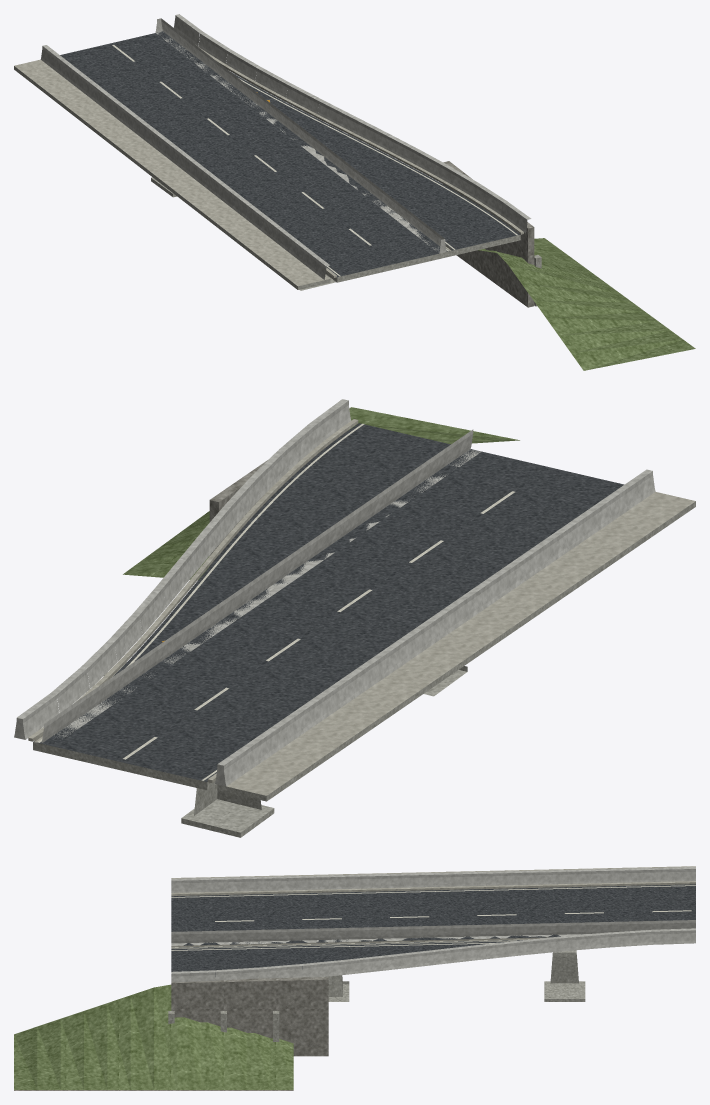
The picture shows the model from 3 angles, top to bottom: view 1: azimuth 30°, elevation 25°; view 2: azimuth 150°, elevation 25°; view 3: azimuth 270°, elevation 25°; orthographic projection. The views are drawn at different scales.
Parts seen in each view (by area): view 1: VIS_Road_mainTop_Asphalt_Dark, VIS_Embankment_Slope_Grass_Embankment, VIS_Road_entry_branchTop_Asphalt_Dark, VIS_Maintenance_PavingTop_Curb_Stone, VIS_Jersey_Parapet_entry_branch_1_Concrete_Barrier, VIS_Jersey_Parapet_main_0_Concrete_Barrier, VIS_Jersey_Parapet_entry_branch_0_Concrete_Barrier, VIS_Retaining_Wall_Retaining_Stone, VIS_Curb_entry_branch_1_Curb_Stone, VIS_Maintenance_PavingOuterLeft_Concrete_Deck, VIS_Road_mainCap_Concrete_Deck; view 2: VIS_Road_mainTop_Asphalt_Dark, VIS_Maintenance_PavingTop_Curb_Stone, VIS_Road_entry_branchTop_Asphalt_Dark, VIS_Jersey_Parapet_main_0_Concrete_Barrier, VIS_Jersey_Parapet_entry_branch_1_Concrete_Barrier, VIS_Jersey_Parapet_entry_branch_0_Concrete_Barrier, VIS_Embankment_Slope_Grass_Embankment, VIS_Maintenance_PavingOuterLeft_Concrete_Deck, VIS_Curb_entry_branch_1_Curb_Stone, VIS_Pier_Foundation_01_Concrete_Deck, VIS_Road_mainCap_Concrete_Deck, VIS_Retaining_Wall_Retaining_Stone (+3 smaller); view 3: VIS_Embankment_Slope_Grass_Embankment, VIS_Road_mainTop_Asphalt_Dark, VIS_Retaining_Wall_Retaining_Stone, VIS_Jersey_Parapet_main_0_Concrete_Barrier, VIS_Jersey_Parapet_entry_branch_1_Concrete_Barrier, VIS_Jersey_Parapet_entry_branch_0_Concrete_Barrier, VIS_Road_entry_branchTop_Asphalt_Dark, VIS_Curb_main_0_Curb_Stone, VIS_Curb_entry_branch_0_Curb_Stone, VIS_Edge_Line_main_Paint_White, VIS_Pier_Foundation_01_Concrete_Deck, VIS_Maintenance_PavingTop_Curb_Stone (+4 smaller).
Part boxes in pixels (x1,y1,x2,y2): VIS_Road_mainTop_Asphalt_Dark: (60,31,449,277); VIS_Embankment_Slope_Grass_Embankment: (478,238,695,370); VIS_Road_entry_branchTop_Asphalt_Dark: (229,71,520,250); VIS_Maintenance_PavingTop_Curb_Stone: (14,59,330,286); VIS_Jersey_Parapet_entry_branch_1_Concrete_Barrier: (174,14,531,233); VIS_Jersey_Parapet_main_0_Concrete_Barrier: (40,45,329,279); VIS_Jersey_Parapet_entry_branch_0_Concrete_Barrier: (155,18,446,253); VIS_Retaining_Wall_Retaining_Stone: (443,161,534,307); VIS_Curb_entry_branch_1_Curb_Stone: (196,45,523,234); VIS_Maintenance_PavingOuterLeft_Concrete_Deck: (14,66,297,289); VIS_Road_mainCap_Concrete_Deck: (337,250,451,282); VIS_Road_mainTop_Asphalt_Dark: (37,449,624,781); VIS_Maintenance_PavingTop_Curb_Stone: (226,492,695,795); VIS_Road_entry_branchTop_Asphalt_Dark: (33,423,450,741); VIS_Jersey_Parapet_main_0_Concrete_Barrier: (215,469,655,786); VIS_Jersey_Parapet_entry_branch_1_Concrete_Barrier: (14,399,351,739); VIS_Jersey_Parapet_entry_branch_0_Concrete_Barrier: (41,429,481,742); VIS_Embankment_Slope_Grass_Embankment: (123,407,519,579); VIS_Maintenance_PavingOuterLeft_Concrete_Deck: (266,501,695,801); VIS_Curb_entry_branch_1_Curb_Stone: (28,419,358,741); VIS_Pier_Foundation_01_Concrete_Deck: (181,799,274,837); VIS_Road_mainCap_Concrete_Deck: (33,742,207,790); VIS_Retaining_Wall_Retaining_Stone: (209,431,347,565); VIS_Embankment_Slope_Grass_Embankment: (14,984,293,1089); VIS_Road_mainTop_Asphalt_Dark: (171,884,695,949); VIS_Retaining_Wall_Retaining_Stone: (171,977,328,1056); VIS_Jersey_Parapet_main_0_Concrete_Barrier: (171,867,695,892); VIS_Jersey_Parapet_entry_branch_1_Concrete_Barrier: (171,928,695,982); VIS_Jersey_Parapet_entry_branch_0_Concrete_Barrier: (171,920,695,945); VIS_Road_entry_branchTop_Asphalt_Dark: (171,941,506,977); VIS_Curb_main_0_Curb_Stone: (171,881,695,895); VIS_Curb_entry_branch_0_Curb_Stone: (171,937,549,948); VIS_Edge_Line_main_Paint_White: (171,885,695,947); VIS_Pier_Foundation_01_Concrete_Deck: (544,981,585,1001); VIS_Maintenance_PavingTop_Curb_Stone: (171,866,695,878).
Bounding box in the file's own units: 19.1 × 6.03 × 39.01.
Materials: 10 (10 with a texture image).
